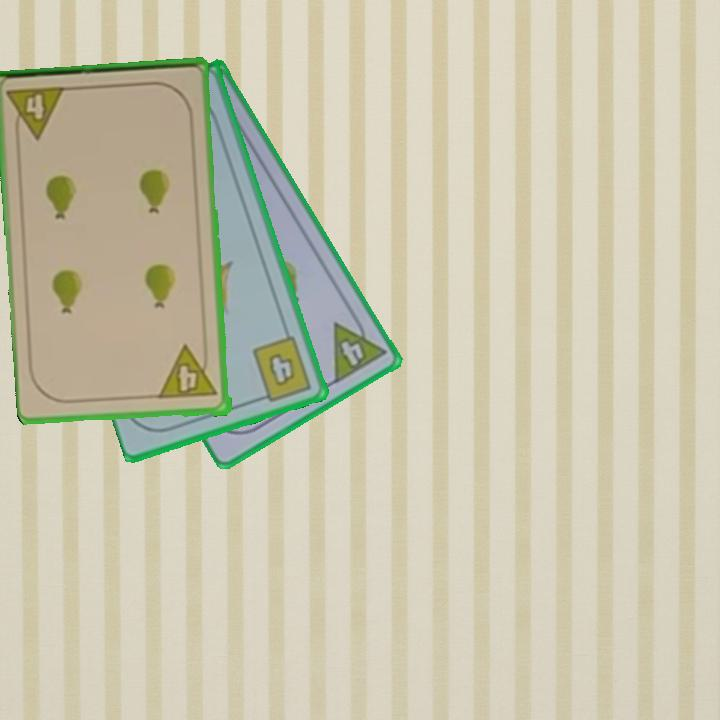4b: (249, 332, 315, 405)
4p: (329, 308, 389, 387), (4, 83, 69, 144), (157, 342, 221, 403)
